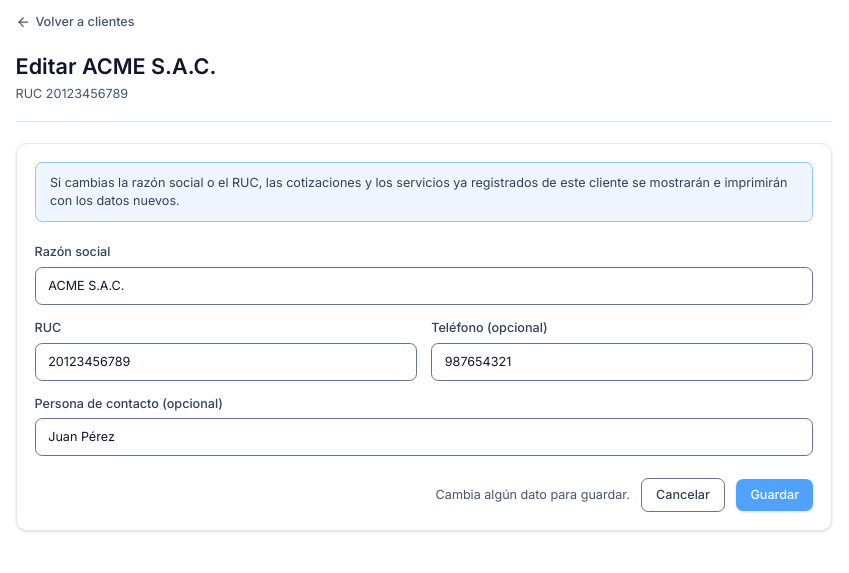
Test case: ClientEditPage › rechaza el RUC 123
The width and height of the screenshot is (849, 573).
Replace the text in the field labelled "RUC" with "123" at (226, 362), box [35,343,417,381]
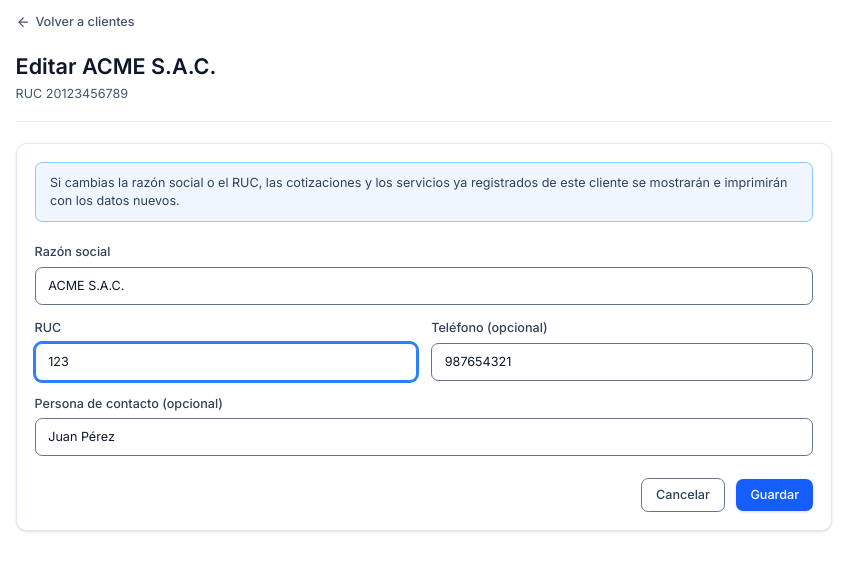
Click the button "Guardar".
click(775, 495)  # box [736,479,813,511]
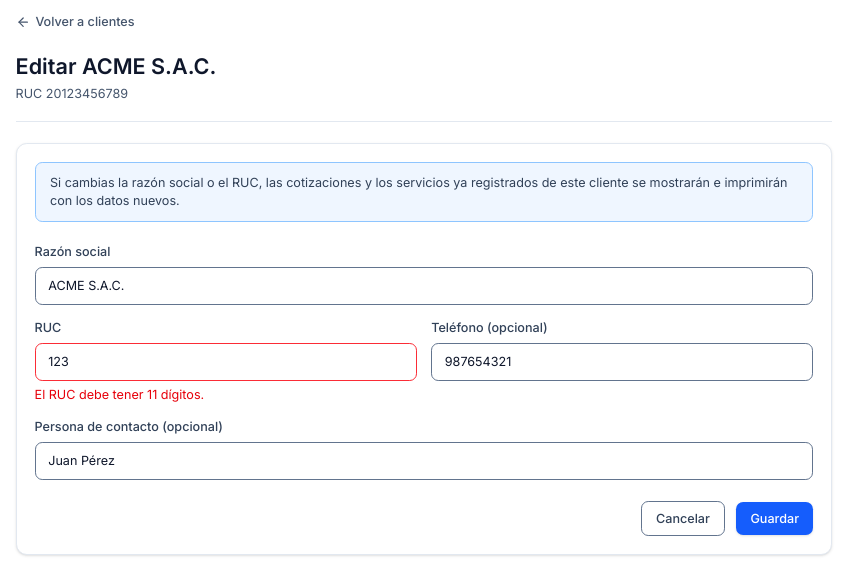
Result: the text "El RUC debe tener 11 dígitos." is shown at [35,387,204,402]
